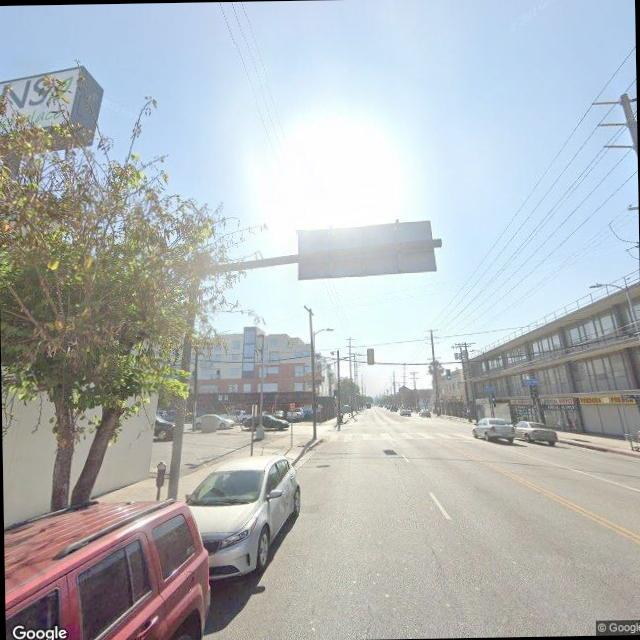pothole: (394, 480, 447, 595), (350, 590, 378, 638)
